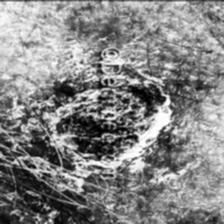Potentially Malignant Skin Tumors: (60, 84, 158, 157)
